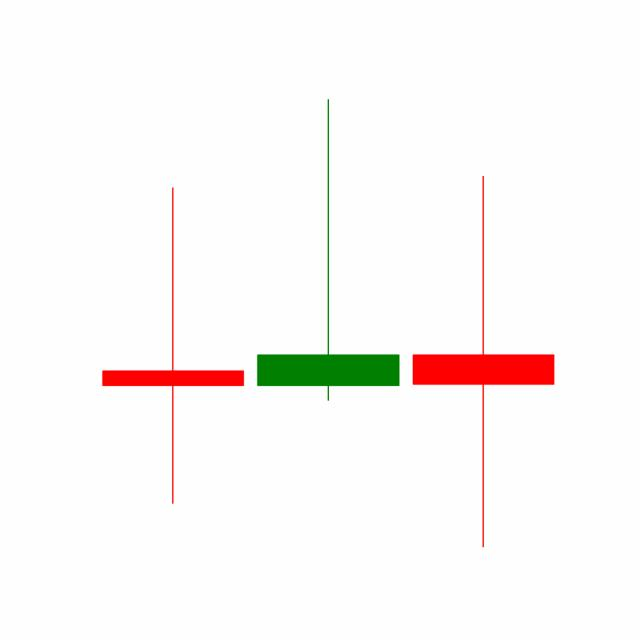Spinning Top: (405, 172, 561, 552)
